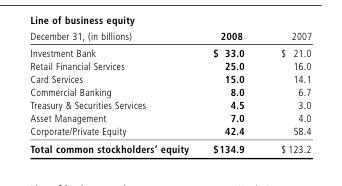table: (29, 29, 311, 155)
table column: (29, 29, 200, 155), (200, 29, 261, 155), (261, 29, 311, 155)
table column header: (29, 29, 311, 43)
table row: (29, 139, 311, 155), (29, 43, 311, 58), (29, 124, 311, 139), (29, 29, 311, 43), (29, 84, 311, 98), (29, 58, 311, 71), (29, 71, 311, 84), (29, 98, 311, 111), (29, 111, 311, 124)
